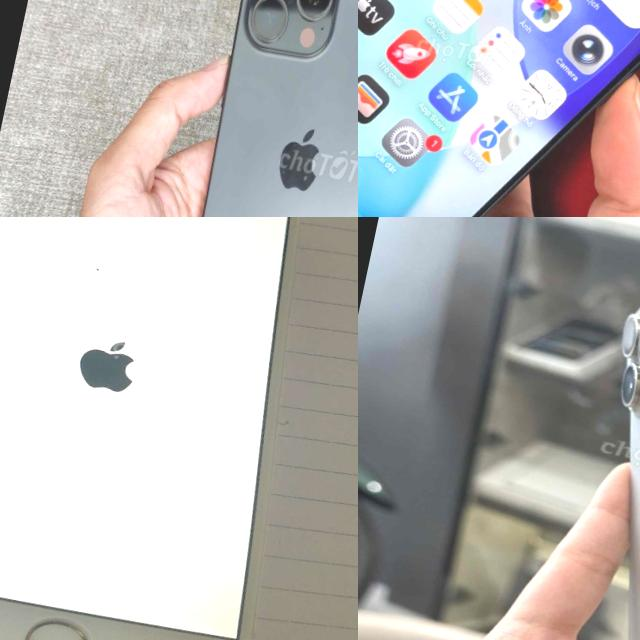gen_15: (507, 217, 640, 640), (135, 0, 358, 217)
gen_17: (358, 0, 640, 217)
gen_6: (0, 217, 297, 640)
